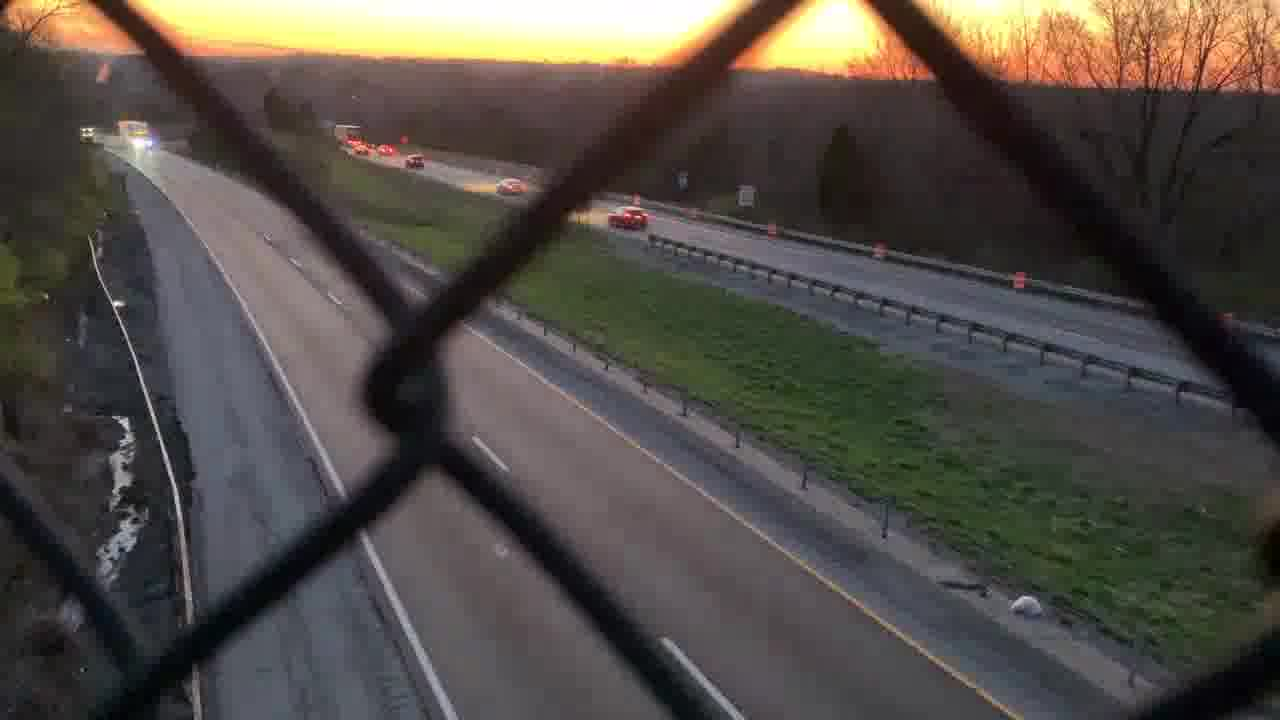heavyTruck: (114, 120, 152, 145)
smallCar: (607, 205, 651, 232)
